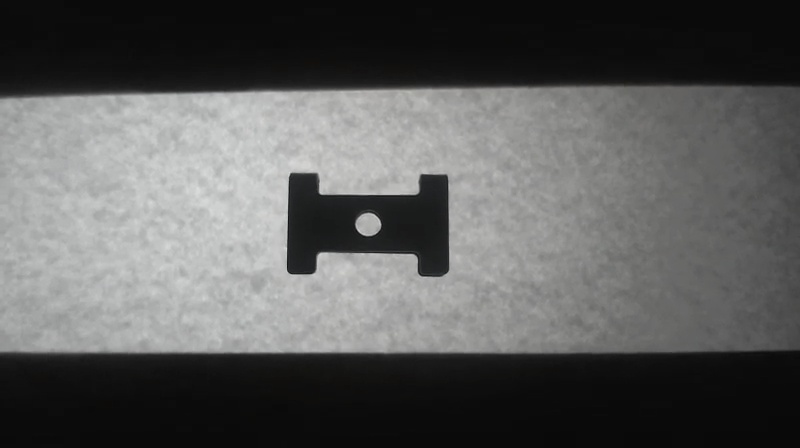O002: (280, 170, 453, 279)
